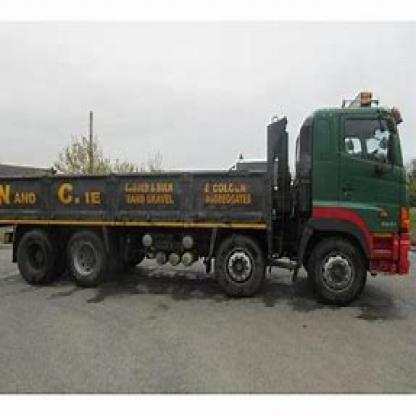dump_truck: (3, 96, 414, 322)
